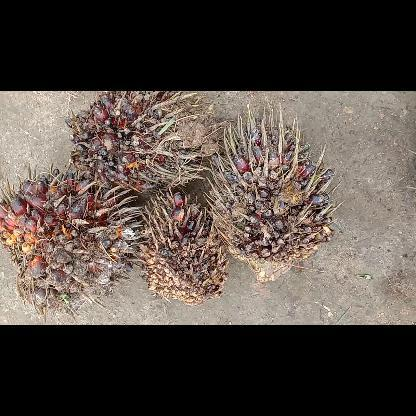TBS abnormal: (216, 106, 336, 280), (69, 94, 212, 190), (139, 190, 229, 304)
TBS masak: (1, 168, 137, 312)
